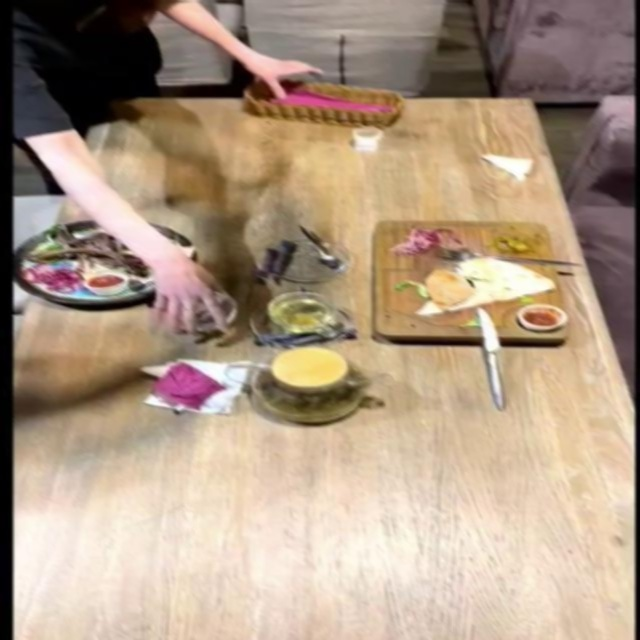meat: (369, 216, 566, 354), (0, 206, 188, 313)
tea: (192, 352, 405, 416)
